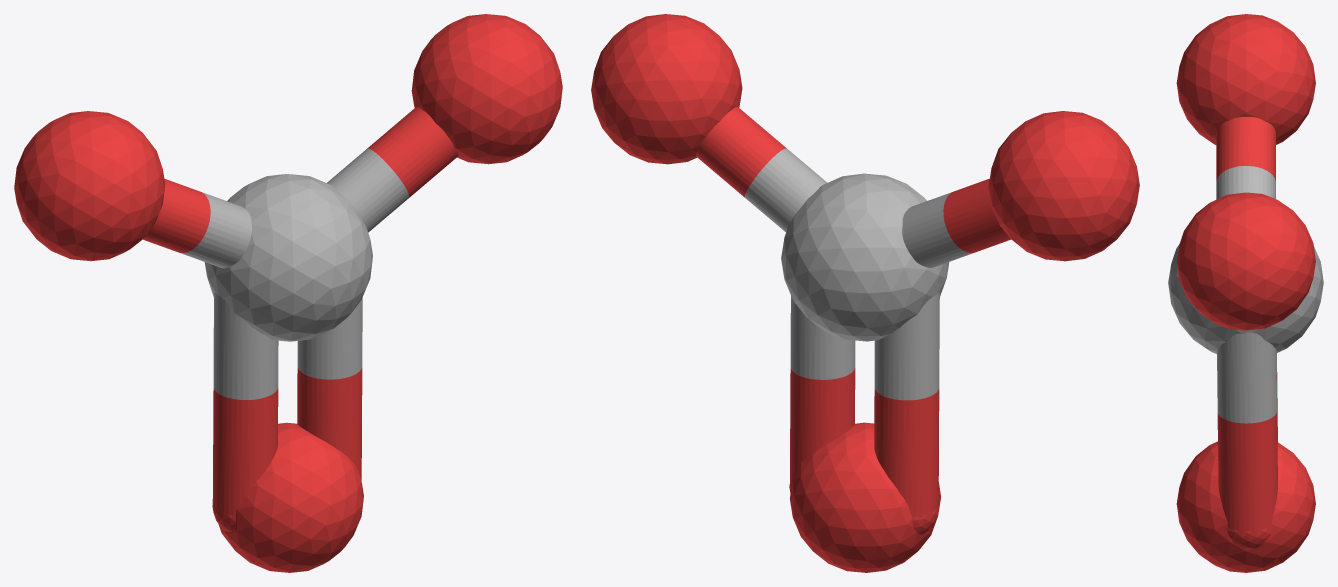
The model's file is carbonate.fbx.
3 views of the same model, side by side, from view 1: azimuth 30°, elevation 25°; view 2: azimuth 150°, elevation 25°; view 3: azimuth 270°, elevation 25° (orthographic). The views are drawn at different scales.
Parts seen in each view (by area): view 1: Shape_IndexedFaceSet, Shape_IndexedFaceSet.002, Shape_IndexedFaceSet.001, Shape_IndexedFaceSet.003, Shape_IndexedFaceSet.010, Shape_IndexedFaceSet.008, Shape_IndexedFaceSet.006, Shape_IndexedFaceSet.017, Shape_IndexedFaceSet.016, Shape_IndexedFaceSet.004, Shape_IndexedFaceSet.014, Shape_IndexedFaceSet.012; view 2: Shape_IndexedFaceSet, Shape_IndexedFaceSet.002, Shape_IndexedFaceSet.001, Shape_IndexedFaceSet.003, Shape_IndexedFaceSet.010, Shape_IndexedFaceSet.008, Shape_IndexedFaceSet.006, Shape_IndexedFaceSet.017, Shape_IndexedFaceSet.016, Shape_IndexedFaceSet.004, Shape_IndexedFaceSet.014, Shape_IndexedFaceSet.012; view 3: Shape_IndexedFaceSet.001, Shape_IndexedFaceSet.002, Shape_IndexedFaceSet.003, Shape_IndexedFaceSet.006, Shape_IndexedFaceSet.004, Shape_IndexedFaceSet, Shape_IndexedFaceSet.014, Shape_IndexedFaceSet.012, Shape_IndexedFaceSet.007.
Boxes of the visible parts, bbox=[...] form: Shape_IndexedFaceSet: bbox=[204, 174, 372, 341]; Shape_IndexedFaceSet.002: bbox=[14, 111, 165, 261]; Shape_IndexedFaceSet.001: bbox=[411, 14, 562, 164]; Shape_IndexedFaceSet.003: bbox=[218, 422, 363, 572]; Shape_IndexedFaceSet.010: bbox=[212, 388, 278, 518]; Shape_IndexedFaceSet.008: bbox=[213, 292, 278, 399]; Shape_IndexedFaceSet.006: bbox=[297, 367, 362, 480]; Shape_IndexedFaceSet.017: bbox=[367, 107, 458, 197]; Shape_IndexedFaceSet.016: bbox=[327, 148, 409, 232]; Shape_IndexedFaceSet.004: bbox=[297, 297, 362, 379]; Shape_IndexedFaceSet.014: bbox=[142, 178, 210, 252]; Shape_IndexedFaceSet.012: bbox=[180, 192, 251, 268]; Shape_IndexedFaceSet: bbox=[781, 173, 949, 341]; Shape_IndexedFaceSet.002: bbox=[988, 111, 1139, 261]; Shape_IndexedFaceSet.001: bbox=[591, 14, 742, 164]; Shape_IndexedFaceSet.003: bbox=[790, 422, 940, 572]; Shape_IndexedFaceSet.010: bbox=[874, 388, 939, 517]; Shape_IndexedFaceSet.008: bbox=[874, 292, 939, 400]; Shape_IndexedFaceSet.006: bbox=[790, 368, 855, 489]; Shape_IndexedFaceSet.017: bbox=[696, 107, 786, 197]; Shape_IndexedFaceSet.016: bbox=[745, 148, 827, 232]; Shape_IndexedFaceSet.004: bbox=[790, 296, 855, 379]; Shape_IndexedFaceSet.014: bbox=[943, 178, 1010, 252]; Shape_IndexedFaceSet.012: bbox=[902, 192, 972, 267]; Shape_IndexedFaceSet.001: bbox=[1176, 192, 1315, 330]; Shape_IndexedFaceSet.002: bbox=[1176, 14, 1315, 144]; Shape_IndexedFaceSet.003: bbox=[1176, 441, 1315, 572]; Shape_IndexedFaceSet.006: bbox=[1217, 411, 1277, 533]; Shape_IndexedFaceSet.004: bbox=[1217, 332, 1276, 423]; Shape_IndexedFaceSet: bbox=[1168, 244, 1323, 353]; Shape_IndexedFaceSet.014: bbox=[1216, 117, 1275, 180]; Shape_IndexedFaceSet.012: bbox=[1216, 166, 1275, 199]; Shape_IndexedFaceSet.007: bbox=[1227, 524, 1271, 548].
Size of the model in its own units: 2822 by 2537 by 782.
